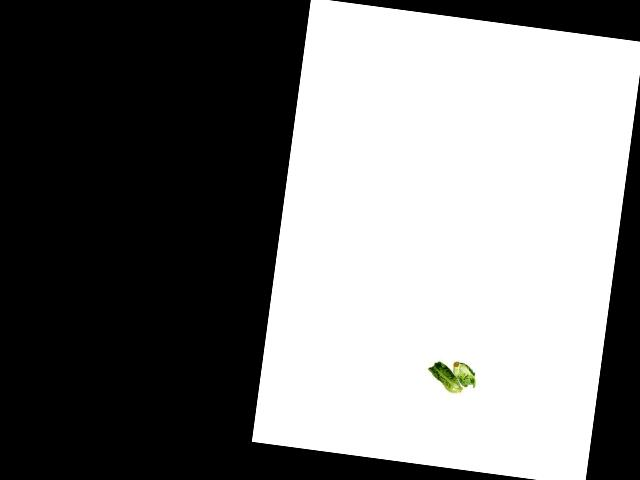lettuce: (427, 352, 480, 396)
